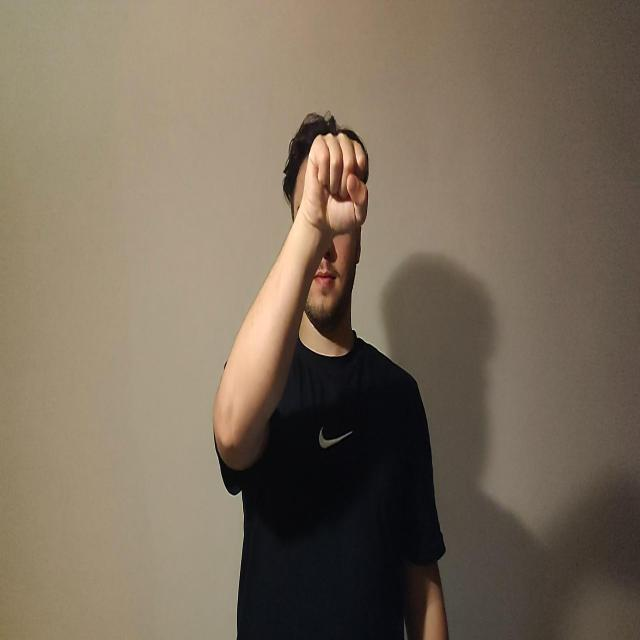yes: (299, 130, 369, 236)
